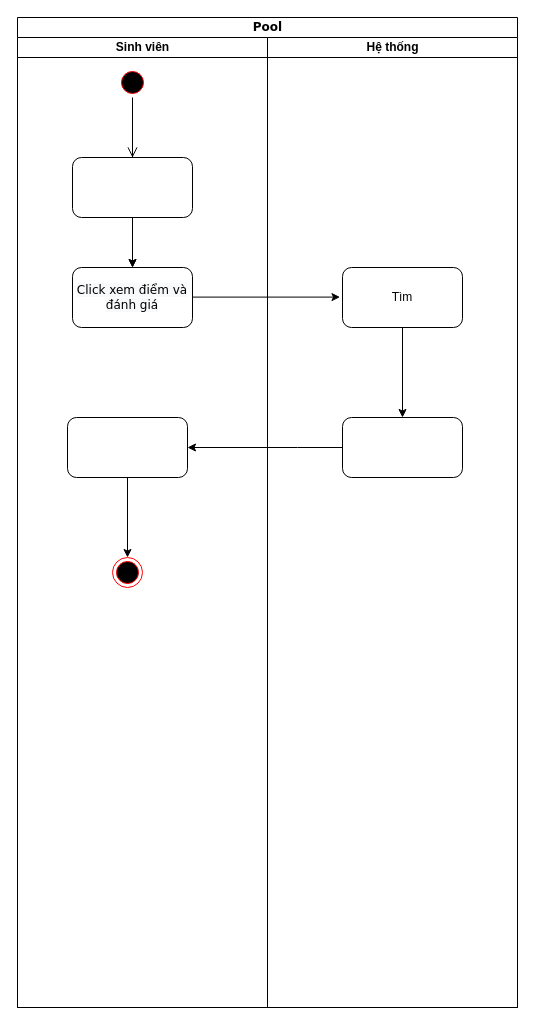
Image size: 535x1025. Some labels were removed from this diagram. The box of each missing label's shape, as (x1, y1, x2, y2) in pixels:
Chọn học phần: (72, 156, 192, 218)
Dữ liệu: (342, 416, 462, 478)
Thông tin điểm và đánh giá: (66, 416, 188, 478)
